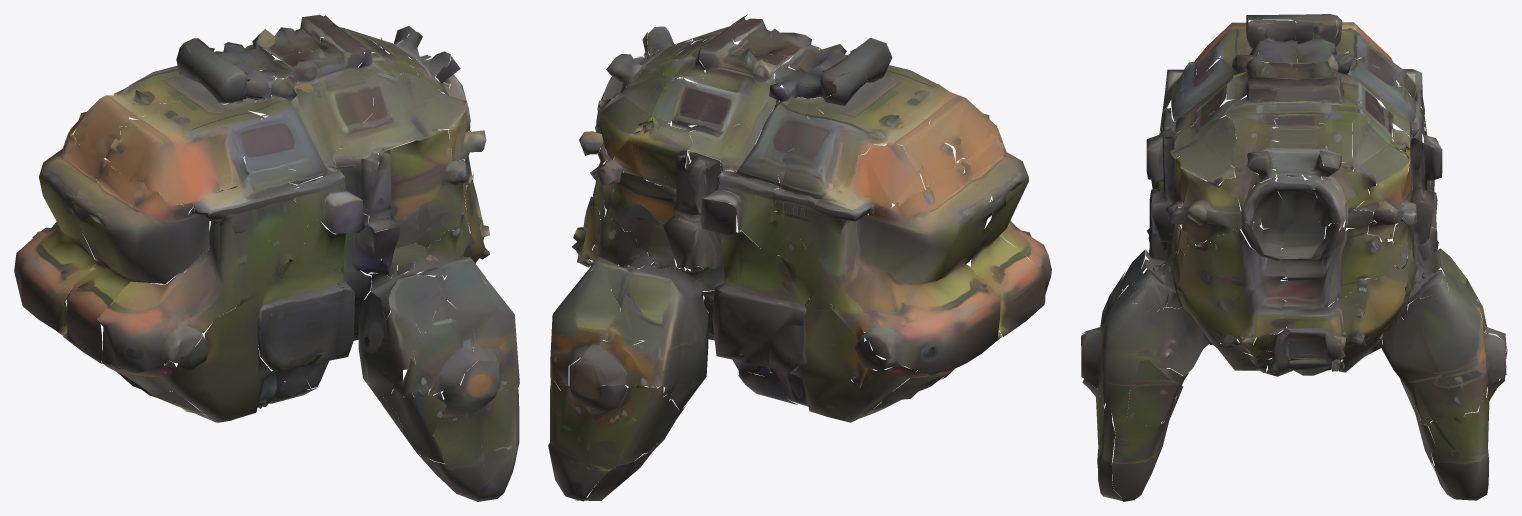
File: prop_hull_patch_plate_01.glb
The picture shows the model from 3 angles, left to right: view 1: azimuth 30°, elevation 25°; view 2: azimuth 150°, elevation 25°; view 3: azimuth 270°, elevation 25°; orthographic projection. The views are drawn at different scales.
Parts seen in each view (by area): view 1: tripo_node_66003e2f-8033-48bb-83f8-6ad87ea313fa; view 2: tripo_node_66003e2f-8033-48bb-83f8-6ad87ea313fa; view 3: tripo_node_66003e2f-8033-48bb-83f8-6ad87ea313fa.
Boxes of the visible parts, x1=… form: tripo_node_66003e2f-8033-48bb-83f8-6ad87ea313fa: x1=14, y1=14, x2=519, y2=501; tripo_node_66003e2f-8033-48bb-83f8-6ad87ea313fa: x1=548, y1=14, x2=1051, y2=501; tripo_node_66003e2f-8033-48bb-83f8-6ad87ea313fa: x1=1081, y1=14, x2=1507, y2=501.
Size of the model in its own units: 0.988 by 0.9704 by 0.9436.
1 material, 1 textured.
